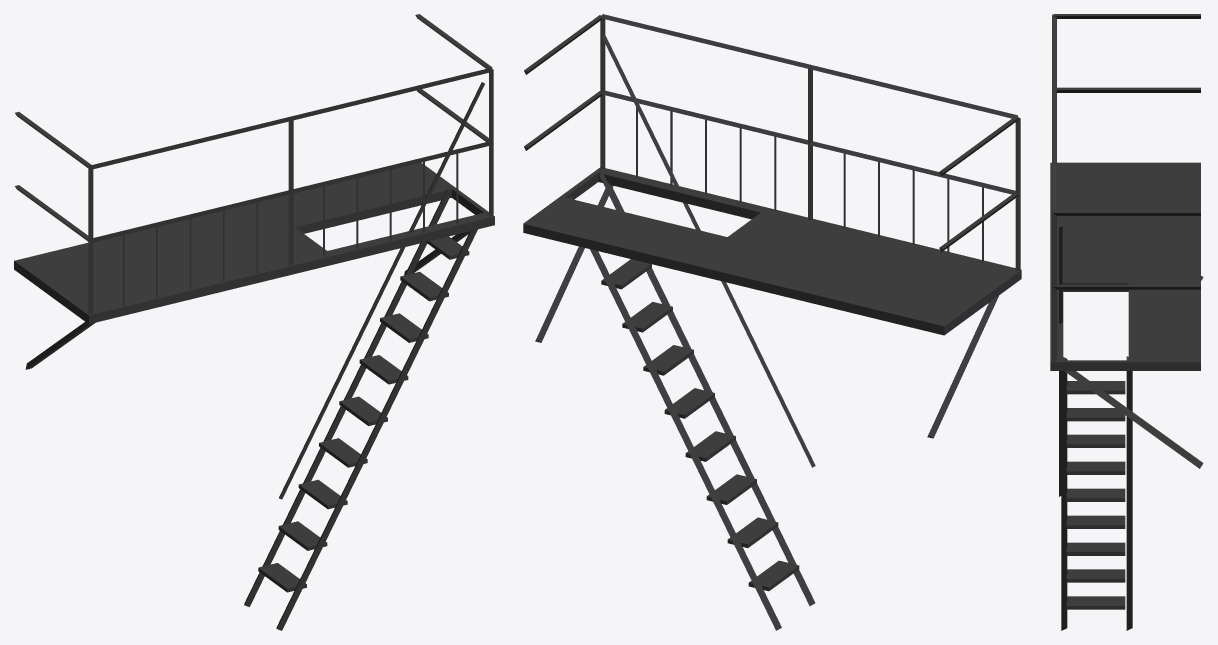
Rendered from fire_escape.glb.
The picture shows the model from 3 angles, left to right: view 1: azimuth 30°, elevation 25°; view 2: azimuth 150°, elevation 25°; view 3: azimuth 270°, elevation 25°; orthographic projection. The views are drawn at different scales.
Parts seen in each view (by area): view 1: fire_escape; view 2: fire_escape; view 3: fire_escape.
Part boxes in pixels (<box>): fire_escape: <box>14,14,494,630</box>; fire_escape: <box>523,14,1021,630</box>; fire_escape: <box>1050,14,1203,630</box>.
Bounding box in the file's own units: 2.9 × 3.53 × 0.9406.
1 material, 1 textured.
